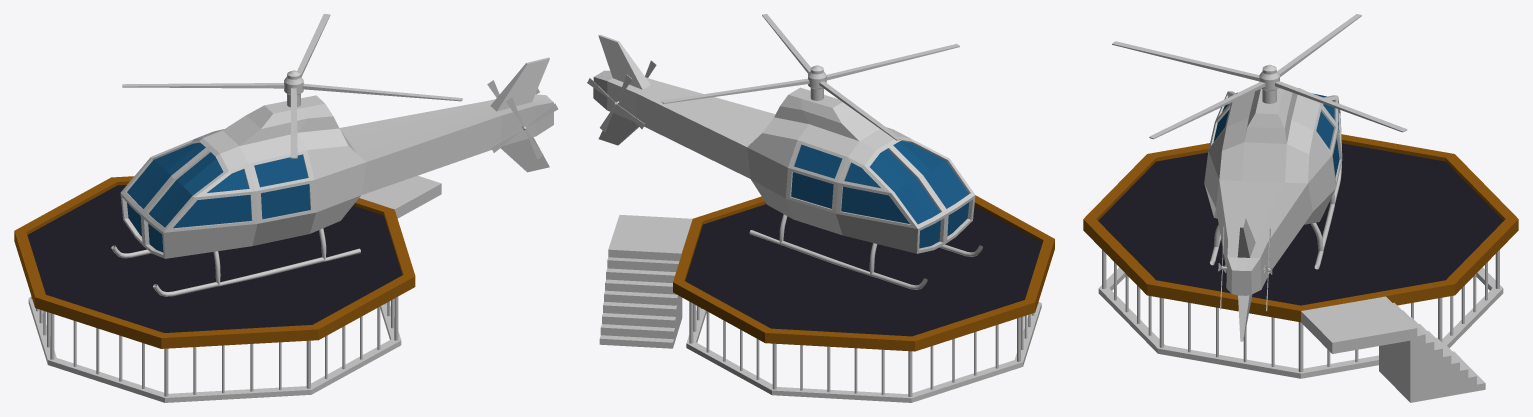
Rendered from copter_000235.obj.
3 views of the same model, side by side, from view 1: azimuth 30°, elevation 25°; view 2: azimuth 150°, elevation 25°; view 3: azimuth 270°, elevation 25° (orthographic). The views are drawn at different scales.
Visible parts, largest first — view 1: Cylinder.001_Cylinder.012, Helicopter.007_Cylinder.008, Helicopter.001_Cylinder.001, Cylinder.004, Cylinder.003_Cylinder.005, Cylinder.002, Helicopter.003_Cylinder.004; view 2: Cylinder.001_Cylinder.012, Helicopter.007_Cylinder.008, Helicopter.001_Cylinder.001, Cylinder.004, Cylinder.003_Cylinder.005, Cylinder.002, Helicopter.004_Cylinder.005; view 3: Cylinder.001_Cylinder.012, Helicopter.007_Cylinder.008, Helicopter.001_Cylinder.001, Cylinder.004, Cylinder.002, Cylinder.003_Cylinder.005.
Part boxes in pixels (<box>): Cylinder.001_Cylinder.012: <box>14,175,441,402</box>; Helicopter.007_Cylinder.008: <box>111,57,553,296</box>; Helicopter.001_Cylinder.001: <box>122,14,462,158</box>; Cylinder.004: <box>193,306,380,394</box>; Cylinder.003_Cylinder.005: <box>36,299,393,388</box>; Cylinder.002: <box>31,296,398,396</box>; Helicopter.003_Cylinder.004: <box>491,97,558,159</box>; Cylinder.001_Cylinder.012: <box>599,195,1054,402</box>; Helicopter.007_Cylinder.008: <box>593,34,982,289</box>; Helicopter.001_Cylinder.001: <box>661,14,959,140</box>; Cylinder.004: <box>706,311,884,395</box>; Cylinder.003_Cylinder.005: <box>693,304,1034,389</box>; Cylinder.002: <box>689,301,1038,396</box>; Helicopter.004_Cylinder.005: <box>587,75,644,132</box>; Cylinder.001_Cylinder.012: <box>1083,134,1518,402</box>; Helicopter.007_Cylinder.008: <box>1204,88,1342,341</box>; Helicopter.001_Cylinder.001: <box>1112,14,1407,139</box>; Cylinder.004: <box>1114,262,1487,335</box>; Cylinder.002: <box>1102,250,1499,372</box>; Cylinder.003_Cylinder.005: <box>1188,302,1413,366</box>.
Size of the model in its own units: 9.18 by 4.47 by 6.77.
